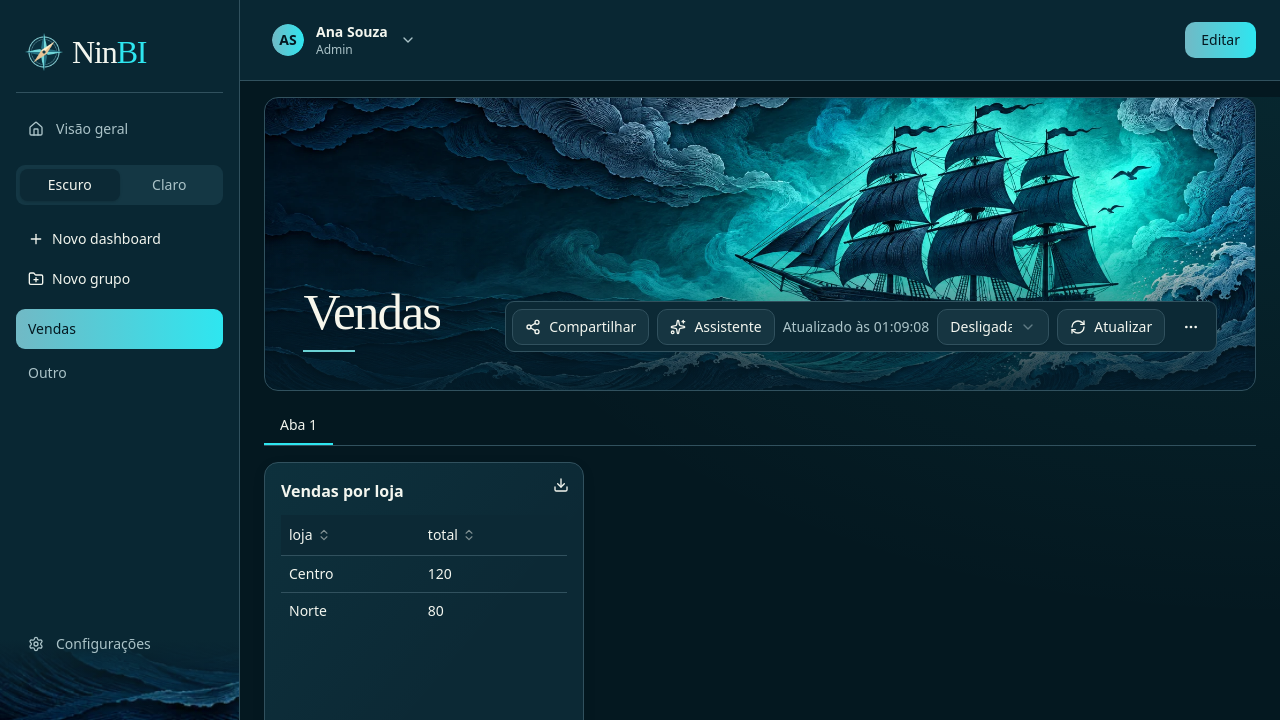
Scenario: DashboardPage em edição › EDIT-01 Editar entra em modo de edição com Salvar e Descartar
What coordinates should you click on to do the following:
click the button "Editar"
I would click on:
 (1221, 40)
Its box is x1=1185 y1=22 x2=1256 y2=58.
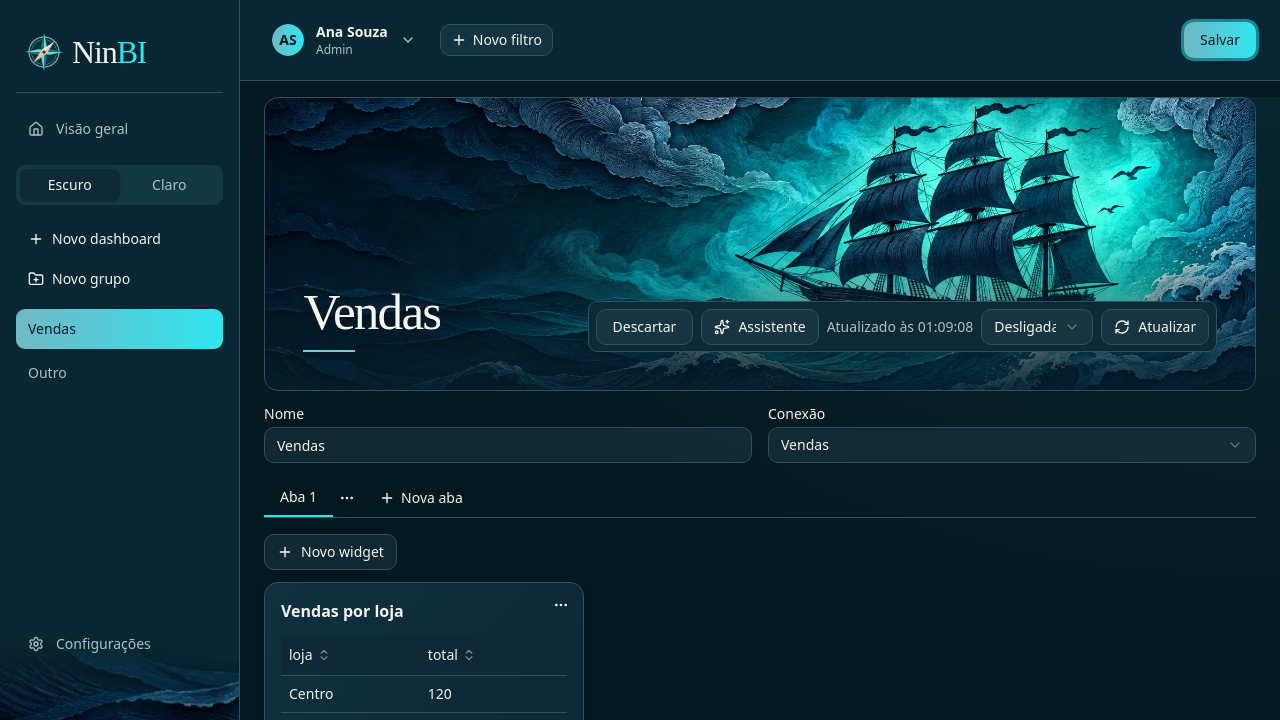
Now the button "Descartar" is enabled, box x1=596 y1=309 x2=693 y2=345
Now the button "Editar" is gone
Now the field labelled "Nome" holds "Vendas", box x1=264 y1=427 x2=752 y2=463
